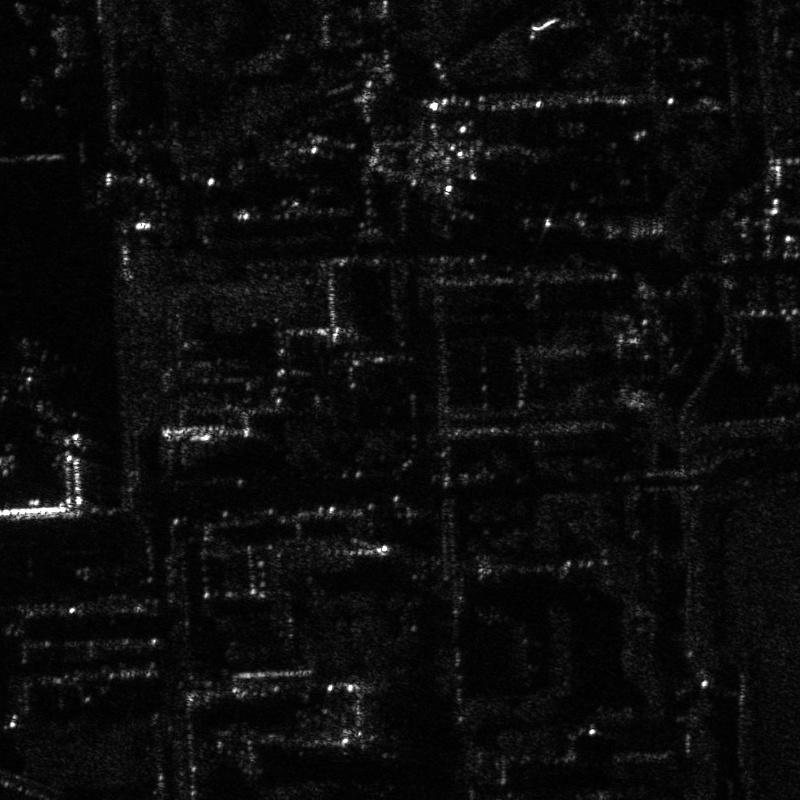A220: (1, 332, 82, 423)
